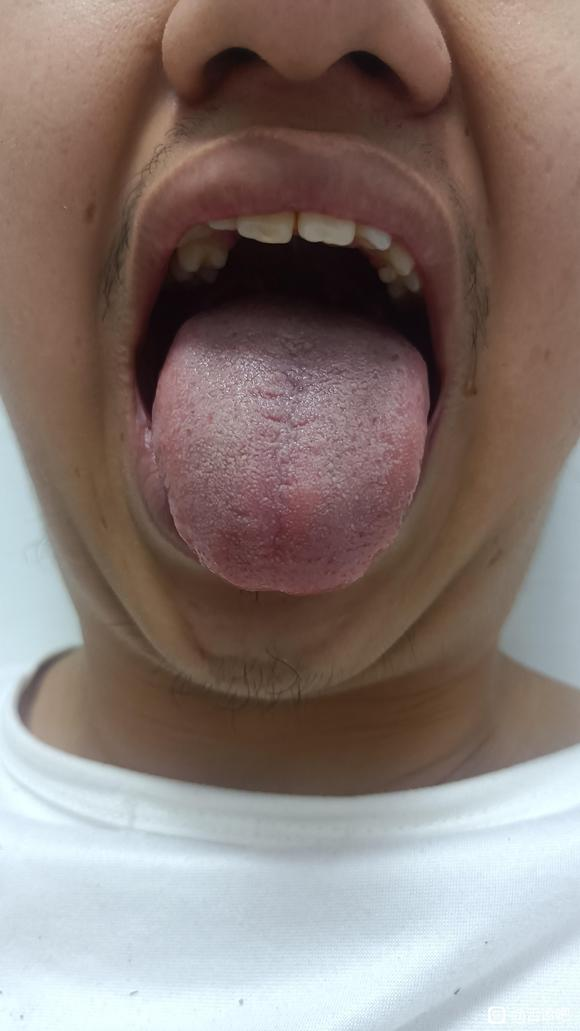baitaishe: (152, 297, 429, 595)
